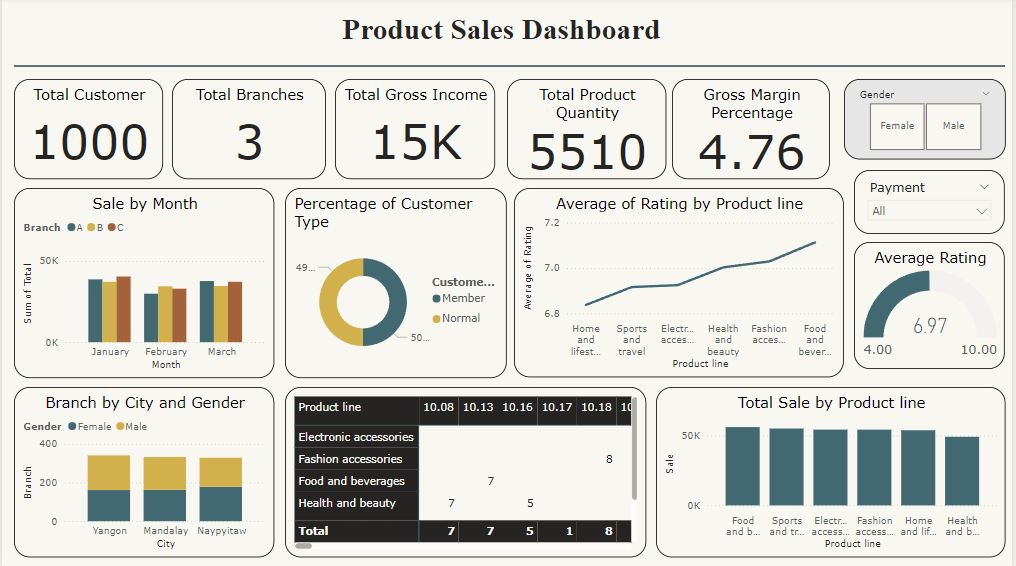

What the dashboard file says about the page in this screenshot:
{"tool":"powerbi","page":{"name":"Page 1","canvas":[1280,720],"ordinal":0},"visuals":[{"type":"lineClusteredColumnComboChart","title":"Sale by Month","fields":{"Category":["sales_combined - Copy.Date.Variation.Date Hierarchy.Month"],"Y":["Sum(sales_combined - Copy.Total)"],"Series":["sales_combined - Copy.Branch"]},"box":[15.5,241.4,330.4,241.4],"z":0},{"type":"card","title":"Total Customer","fields":{"Values":["CountNonNull(sales_combined - Copy.Customer type)"]},"box":[15.5,103.1,189.2,127.1],"z":1},{"type":"card","title":"Total Branches","fields":{"Values":["Count(sales_combined - Copy.Branch)"]},"box":[216,103.1,194.8,127.1],"z":2},{"type":"card","title":"Total Gross Income","fields":{"Values":["Sum(sales_combined - Copy.gross income)"]},"box":[422.1,103.1,203.3,127.1],"z":3},{"type":"card","title":"Total Product Quantity","fields":{"Values":["Sum(sales_combined - Copy.Quantity)"]},"box":[639.5,103.1,201.9,127.1],"z":4},{"type":"card","title":"Gross Margin Percentage","fields":{"Values":["Max(sales_combined - Copy.gross margin percentage)"]},"box":[849.9,103.1,200.5,127.1],"z":5},{"type":"slicer","fields":{"Values":["sales_combined - Copy.Gender"]},"box":[1067.3,103.1,204.7,101.6],"z":6},{"type":"gauge","title":"Average Rating","fields":{"Y":["Avg(sales_combined - Copy.Rating)"],"MinValue":["Min(sales_combined - Copy.Rating)1"],"MaxValue":["Max(sales_combined - Copy.Rating)2"]},"box":[1080.4,309.7,191.3,161],"z":7},{"type":"lineStackedColumnComboChart","title":"Branch by City and Gender","fields":{"Category":["sales_combined - Copy.City"],"Y":["CountNonNull(sales_combined - Copy.Branch)"],"Series":["sales_combined - Copy.Gender"]},"box":[15.1,492.7,330.3,216.1],"z":8},{"type":"columnChart","title":"Total Sale by Product line","fields":{"Category":["sales_combined - Copy.Product line"],"Y":["Sum(sales_combined - Copy.Total)"]},"box":[828.6,492.7,443.2,216.1],"z":9},{"type":"slicer","fields":{"Values":["sales_combined - Copy.Payment"]},"box":[1080.4,217.5,191.3,81.2],"z":10},{"type":"pivotTable","fields":{"Values":["Sum(sales_combined - Copy.Quantity)"],"Rows":["sales_combined - Copy.Product line"],"Columns":["sales_combined - Copy.Unit price"]},"box":[359.2,492.7,458.3,216.1],"z":11},{"type":"donutChart","title":"Percentage of Customer Type","fields":{"Category":["sales_combined - Copy.Customer type"],"Y":["CountNonNull(sales_combined - Copy.Branch)"]},"box":[358.6,241.4,280.9,241.4],"z":12},{"type":"lineChart","fields":{"Category":["sales_combined - Copy.Product line"],"Y":["Avg(sales_combined - Copy.Rating)"]},"box":[649.4,241.4,417.9,240],"z":13},{"type":"shape","box":[15.5,80.5,1256.5,12.7],"z":14},{"type":"textbox","box":[136.9,12.7,992.5,57.9],"z":15}]}

Visuals, with their boxes in screenshot pixels (x1, y1, x2, y2), scaled from the page's 1280x720 canvas onto the 1016x566 screenshot:
"Sale by Month" lineClusteredColumnComboChart: (x1=12, y1=190, x2=275, y2=380)
"Total Customer" card: (x1=12, y1=81, x2=162, y2=181)
"Total Branches" card: (x1=171, y1=81, x2=326, y2=181)
"Total Gross Income" card: (x1=335, y1=81, x2=496, y2=181)
"Total Product Quantity" card: (x1=508, y1=81, x2=668, y2=181)
"Gross Margin Percentage" card: (x1=675, y1=81, x2=834, y2=181)
slicer - sales_combined - Copy.Gender: (x1=847, y1=81, x2=1010, y2=161)
"Average Rating" gauge: (x1=858, y1=243, x2=1009, y2=370)
"Branch by City and Gender" lineStackedColumnComboChart: (x1=12, y1=387, x2=274, y2=557)
"Total Sale by Product line" columnChart: (x1=658, y1=387, x2=1009, y2=557)
slicer - sales_combined - Copy.Payment: (x1=858, y1=171, x2=1009, y2=235)
pivotTable - Sum(sales_combined - Copy.Quantity) x sales_combined - Copy.Product line: (x1=285, y1=387, x2=649, y2=557)
"Percentage of Customer Type" donutChart: (x1=285, y1=190, x2=508, y2=380)
lineChart - sales_combined - Copy.Product line x Avg(sales_combined - Copy.Rating): (x1=515, y1=190, x2=847, y2=378)
shape: (x1=12, y1=63, x2=1010, y2=73)
textbox: (x1=109, y1=10, x2=896, y2=55)
